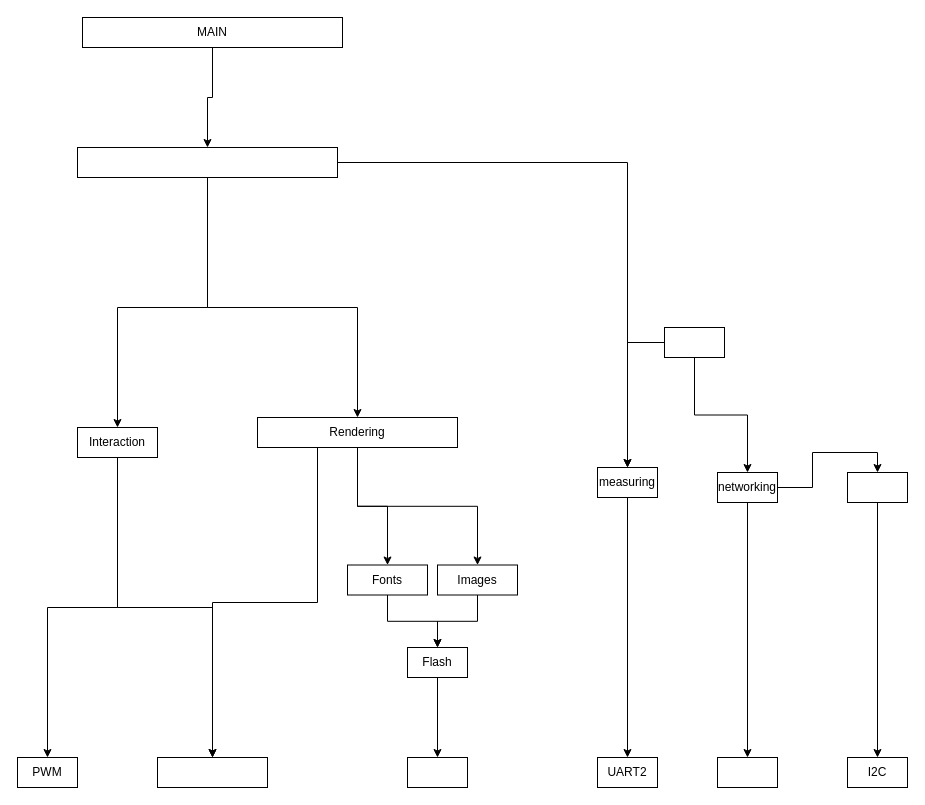
This 925x805 diagram has some shape labels left out. The centre of each missing label's shape, as x and y in pixels:
GPIO: (x=212, y=772)
logging: (x=694, y=342)
SPI: (x=437, y=772)
time: (x=877, y=487)
UART3: (x=747, y=772)
UI: (x=207, y=162)
